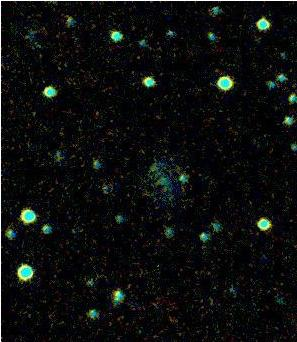star: (136, 151, 166, 181)
